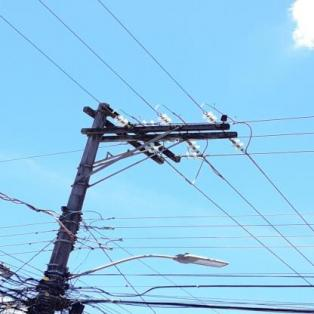Poste: (17, 96, 122, 314)
